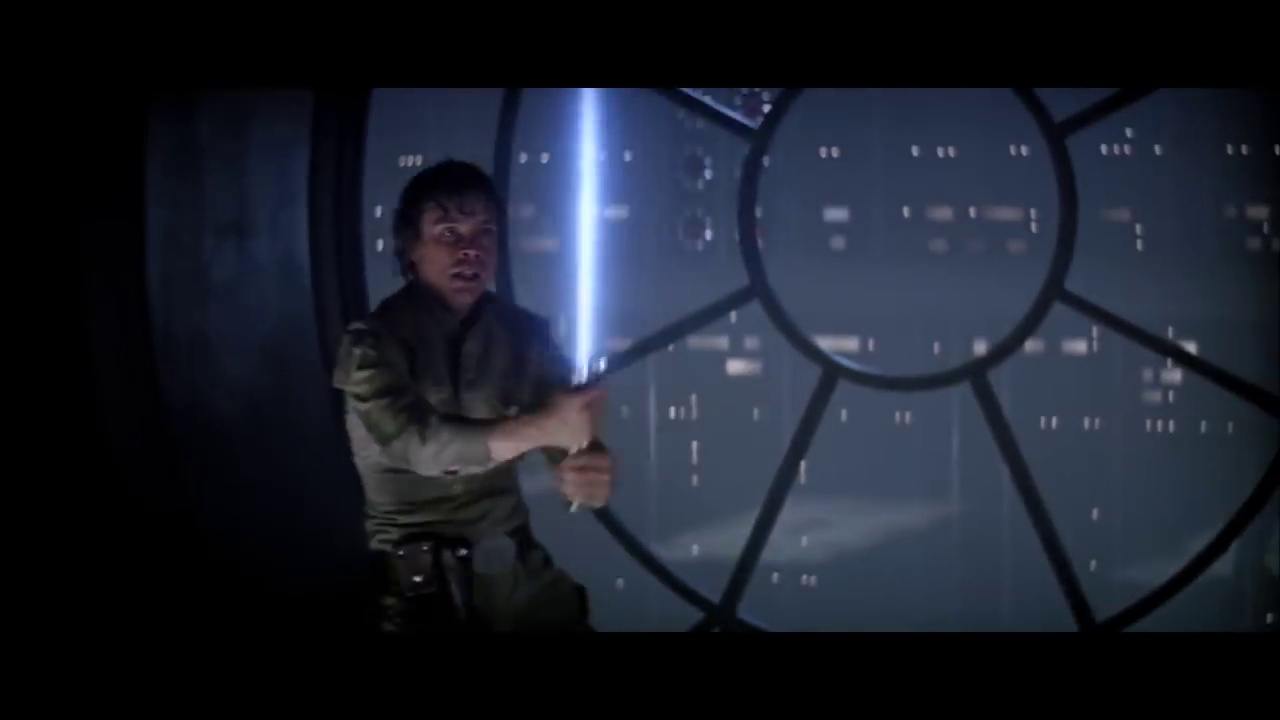lightsaber: (550, 88, 615, 506)
